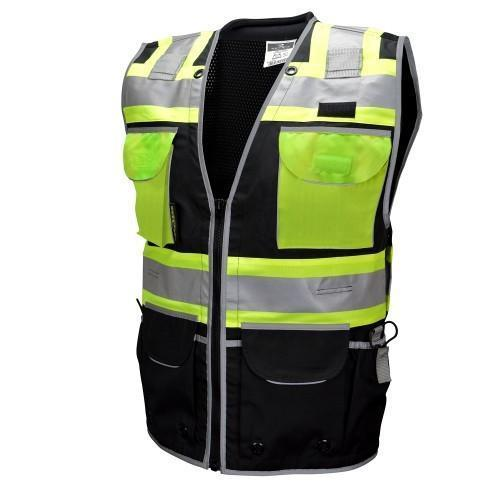vest: (121, 11, 424, 475)
